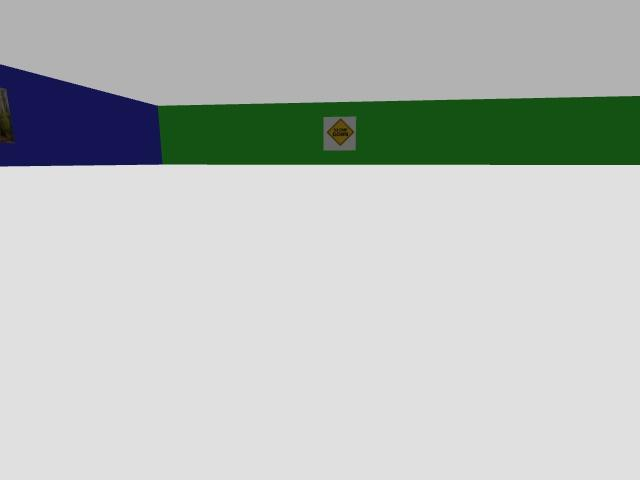slowsign: (323, 116, 356, 150)
